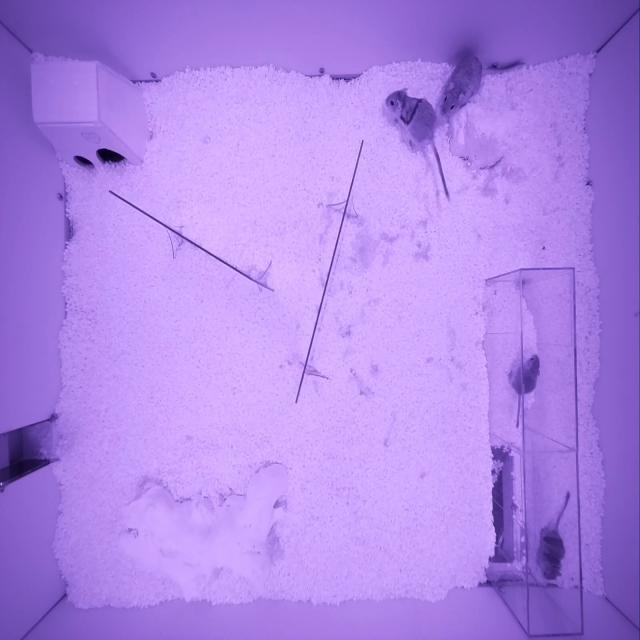adult_back: (440, 56, 482, 117)
adult_front: (384, 87, 437, 147)
pup_fluffy: (508, 354, 540, 395)
pup_h_stripe: (537, 528, 566, 582)
